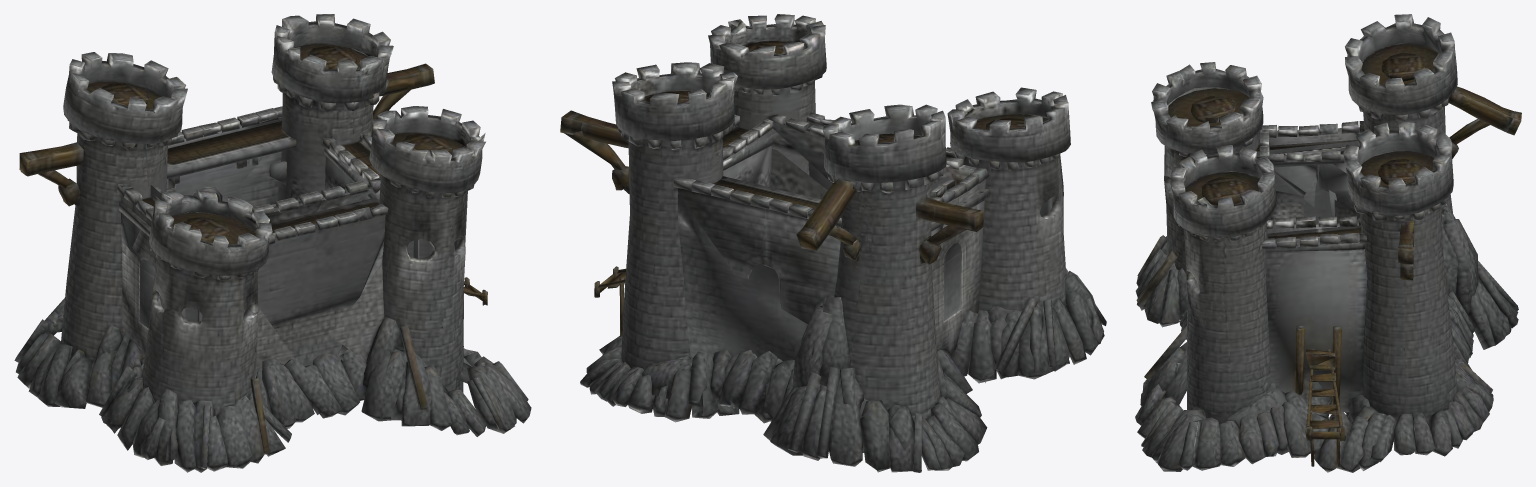
The model's file is site_keep.glb.
3 views of the same model, side by side, from view 1: azimuth 30°, elevation 25°; view 2: azimuth 150°, elevation 25°; view 3: azimuth 270°, elevation 25° (orthographic). The views are drawn at different scales.
Size of the model in its own units: 1 by 0.7782 by 0.8762.
Materials: 1 (1 with a texture image).
